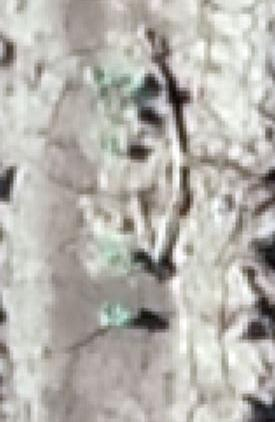cotton: (103, 303, 132, 325), (106, 249, 129, 268), (128, 77, 142, 94), (105, 138, 121, 151)
